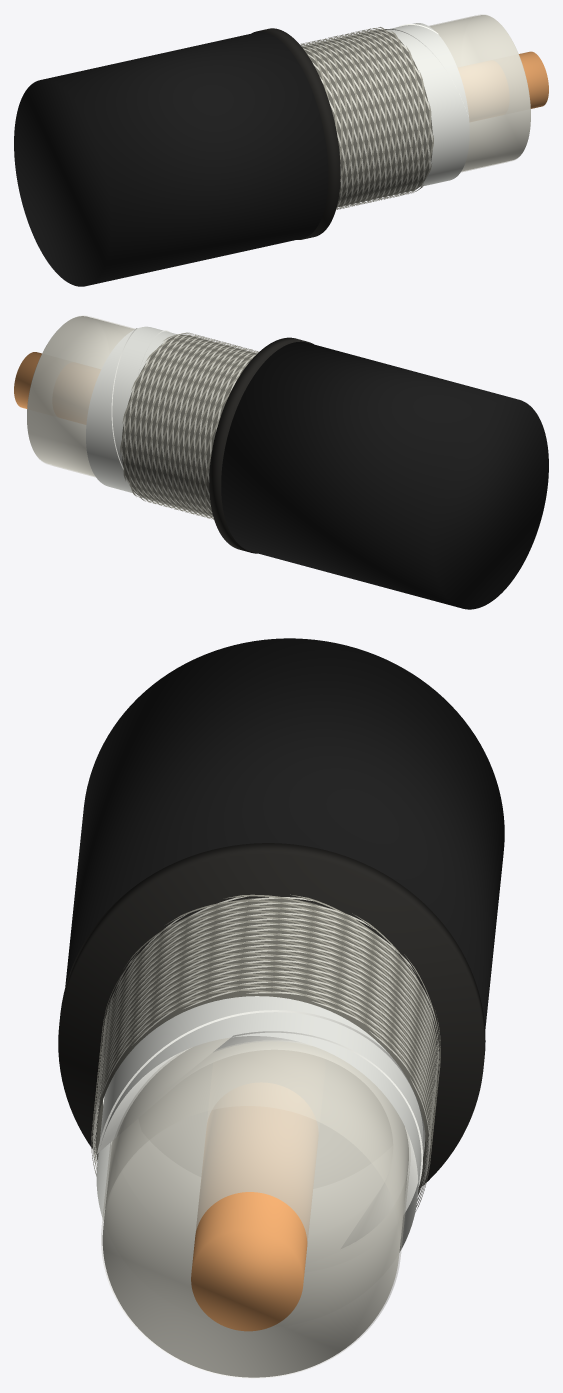
Rendered from rf-lmr400.glb.
3 views of the same model, one above another, from view 1: azimuth 30°, elevation 25°; view 2: azimuth 150°, elevation 25°; view 3: azimuth 270°, elevation 25° (orthographic). The views are drawn at different scales.
Visible parts, largest first — view 1: matte black pvc jacket body, braid dark diamond recess, smooth dielectric skin, gas injected foam dielectric, duobond foil sleeve, jacket cut lip, solid center conductor continuous, braid left hand woven carrier 12, braid left hand woven carrier 13, braid left hand woven carrier 11, braid left hand woven carrier 14, braid left hand woven carrier 15 (+16 smaller); view 2: matte black pvc jacket body, braid dark diamond recess, smooth dielectric skin, gas injected foam dielectric, duobond foil sleeve, jacket cut lip, solid center conductor continuous, braid left hand woven carrier 07, braid left hand woven carrier 08, braid left hand woven carrier 06, braid left hand woven carrier 09, braid left hand woven carrier 03 (+12 smaller); view 3: matte black pvc jacket body, gas injected foam dielectric, jacket cut lip, solid center conductor continuous, braid dark diamond recess, smooth dielectric skin, duobond foil sleeve, subtle foil wrap lap, braid left hand woven carrier 09, braid left hand woven carrier 08, braid left hand woven carrier 10, braid left hand woven carrier 07 (+20 smaller).
Part boxes in pixels (x1=…): matte black pvc jacket body: x1=14, y1=32, x2=328, y2=286; braid dark diamond recess: x1=301, y1=29, x2=432, y2=206; smooth dielectric skin: x1=429, y1=14, x2=530, y2=172; gas injected foam dielectric: x1=430, y1=15, x2=530, y2=171; duobond foil sleeve: x1=386, y1=23, x2=469, y2=186; jacket cut lip: x1=251, y1=28, x2=340, y2=239; solid center conductor continuous: x1=519, y1=51, x2=548, y2=108; braid left hand woven carrier 12: x1=301, y1=42, x2=425, y2=199; braid left hand woven carrier 13: x1=308, y1=41, x2=431, y2=198; braid left hand woven carrier 11: x1=299, y1=43, x2=420, y2=201; braid left hand woven carrier 14: x1=312, y1=40, x2=433, y2=197; braid left hand woven carrier 15: x1=317, y1=39, x2=432, y2=196; matte black pvc jacket body: x1=221, y1=341, x2=548, y2=609; braid dark diamond recess: x1=122, y1=334, x2=256, y2=516; smooth dielectric skin: x1=27, y1=315, x2=134, y2=477; gas injected foam dielectric: x1=27, y1=316, x2=134, y2=476; duobond foil sleeve: x1=86, y1=326, x2=176, y2=493; jacket cut lip: x1=209, y1=337, x2=313, y2=553; solid center conductor continuous: x1=14, y1=352, x2=41, y2=408; braid left hand woven carrier 07: x1=122, y1=337, x2=220, y2=519; braid left hand woven carrier 08: x1=131, y1=336, x2=231, y2=518; braid left hand woven carrier 06: x1=120, y1=339, x2=226, y2=519; braid left hand woven carrier 09: x1=145, y1=335, x2=240, y2=516; braid left hand woven carrier 03: x1=134, y1=343, x2=242, y2=502; matte black pvc jacket body: x1=65, y1=638, x2=504, y2=1029; gas injected foam dielectric: x1=102, y1=1037, x2=408, y2=1377; jacket cut lip: x1=58, y1=843, x2=485, y2=1187; solid center conductor continuous: x1=191, y1=1106, x2=318, y2=1331; braid dark diamond recess: x1=96, y1=897, x2=436, y2=1194; smooth dielectric skin: x1=101, y1=1038, x2=410, y2=1378; duobond foil sleeve: x1=96, y1=996, x2=423, y2=1252; subtle foil wrap lap: x1=97, y1=1010, x2=425, y2=1248; braid left hand woven carrier 09: x1=94, y1=900, x2=438, y2=1122; braid left hand woven carrier 08: x1=94, y1=894, x2=438, y2=1127; braid left hand woven carrier 10: x1=93, y1=905, x2=437, y2=1141; braid left hand woven carrier 07: x1=95, y1=894, x2=439, y2=1110.
Bounding box in the file's own units: 6.56 × 2.6 × 2.72.
